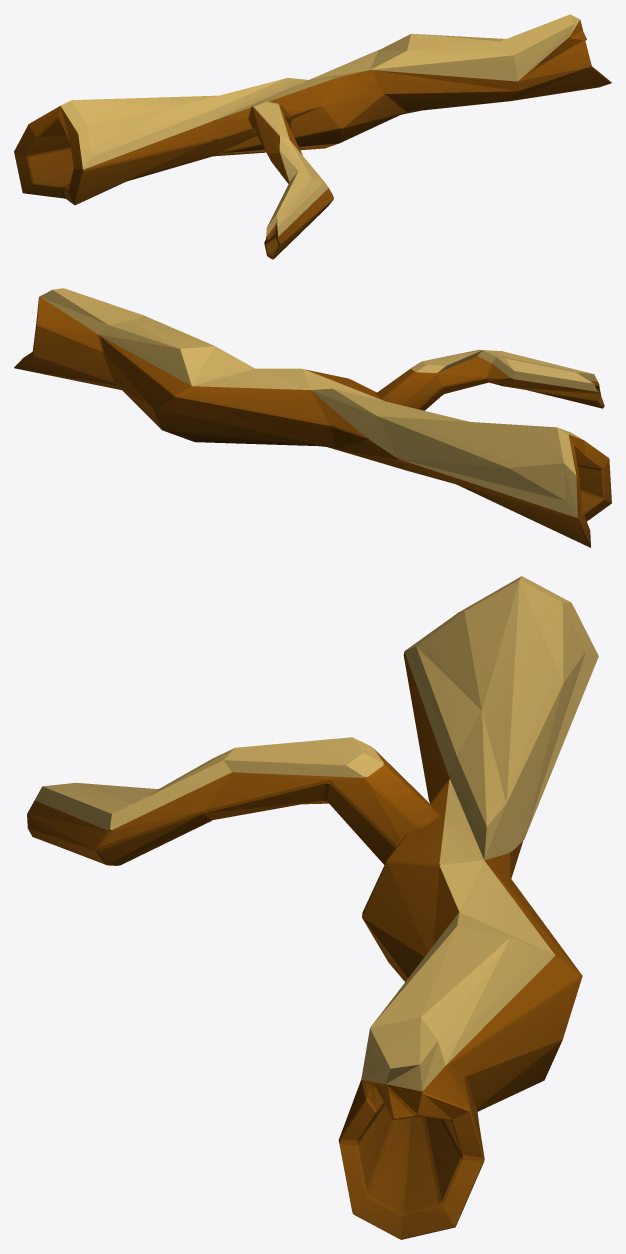
File: log_fork_mossy.glb
The picture shows the model from 3 angles, top to bottom: view 1: azimuth 30°, elevation 25°; view 2: azimuth 150°, elevation 25°; view 3: azimuth 270°, elevation 25°; orthographic projection. The views are drawn at different scales.
Visible parts, largest first — view 1: Wooden Log_2_5_A; view 2: Wooden Log_2_5_A; view 3: Wooden Log_2_5_A.
Part boxes in pixels (box(x1,y1,x2,y2)): Wooden Log_2_5_A: box(14, 14, 611, 259); Wooden Log_2_5_A: box(14, 288, 611, 547); Wooden Log_2_5_A: box(27, 576, 598, 1239).
Size of the model in its own units: 2 by 0.33 by 0.92.
1 material, 1 textured.
